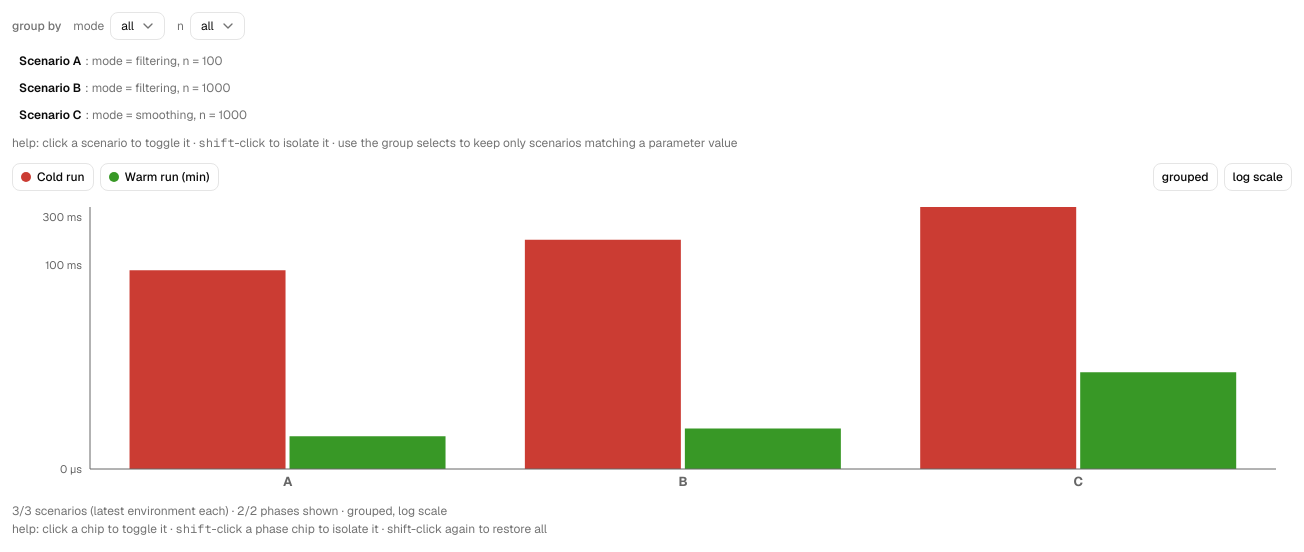
Test: ScenarioCompareChart › groups scenarios by parameter keyword (e.g. only mode=smoothing)
Click the dropdown named "filter by mode".
click(138, 26)  # box [110,12,165,40]
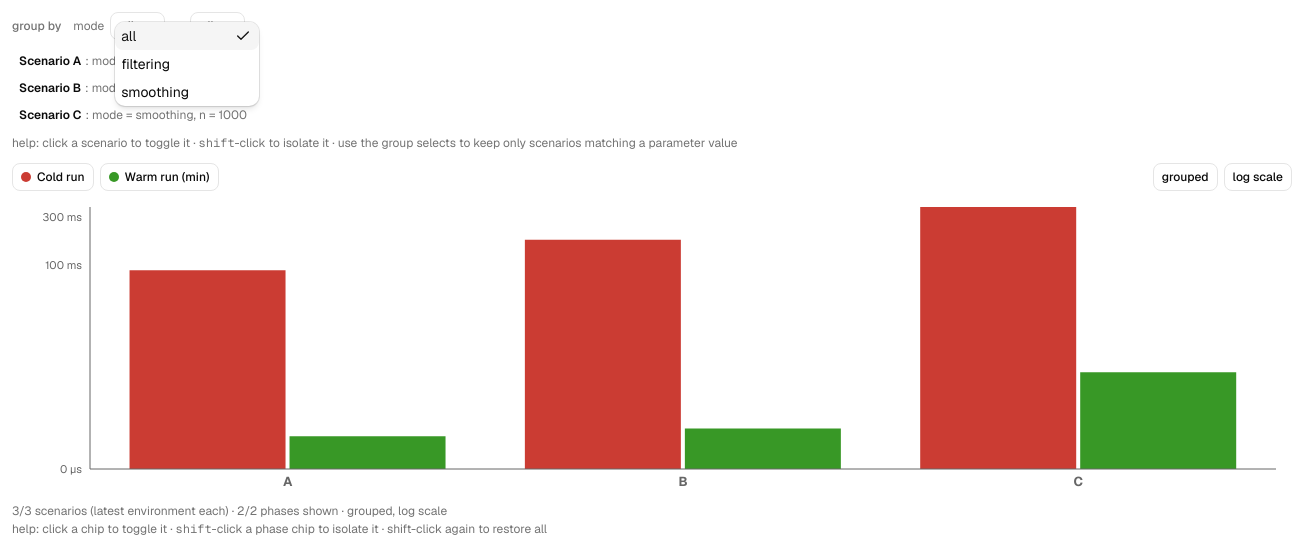
Click the option "smoothing".
click(155, 92)  # box [121,83,189,101]
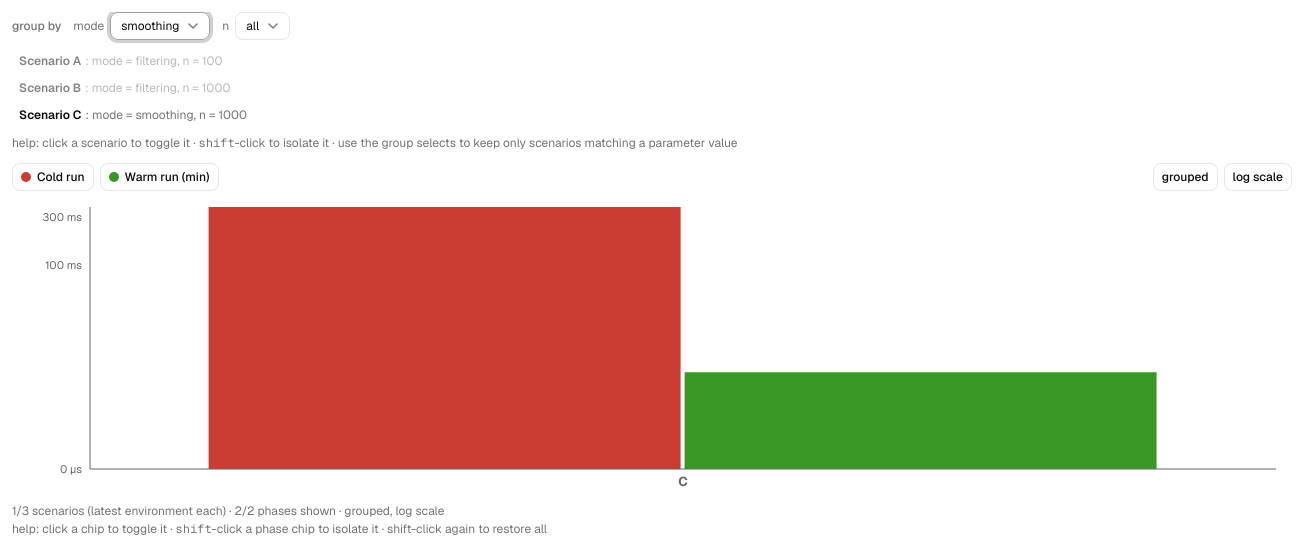
Now the text "1/3 scenarios" is shown, box [12,503,226,519]
Now the button "Scenario A : mode = filtering, n = 100" is disabled, box [12,49,230,73]
